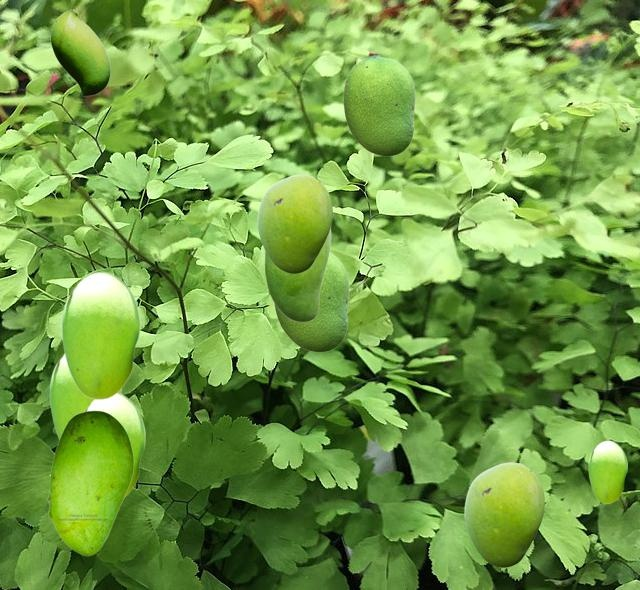green_mango: (47, 410, 133, 555), (61, 271, 139, 398), (464, 462, 543, 566), (273, 252, 348, 351), (343, 51, 414, 155), (257, 174, 331, 272), (84, 392, 144, 496), (49, 354, 120, 439), (264, 231, 330, 321), (50, 9, 109, 95), (588, 440, 626, 502)
